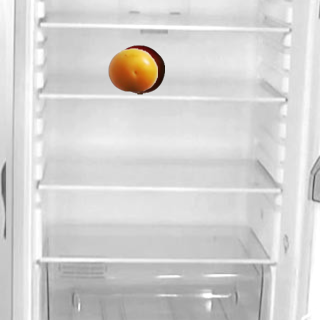Apple Braeburn: (114, 44, 164, 94)
Cherry Wax Yellow: (107, 44, 157, 94)
